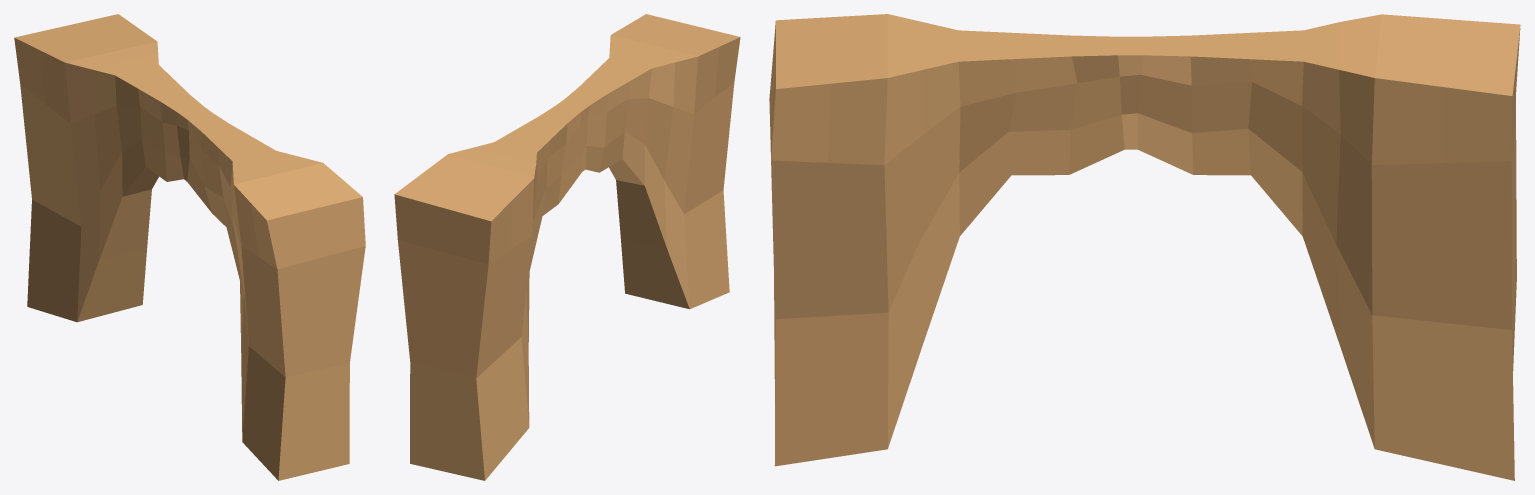
The model's file is bridge.fbx.
3 views of the same model, side by side, from view 1: azimuth 30°, elevation 25°; view 2: azimuth 150°, elevation 25°; view 3: azimuth 270°, elevation 25° (orthographic). The views are drawn at different scales.
Parts seen in each view (by area): view 1: bridge; view 2: bridge; view 3: bridge.
Boxes of the visible parts, <box> form: bridge: <box>14,14,365,480</box>; bridge: <box>394,14,740,480</box>; bridge: <box>769,14,1520,480</box>.
Size of the model in its own units: 385 by 1005 by 1670.
